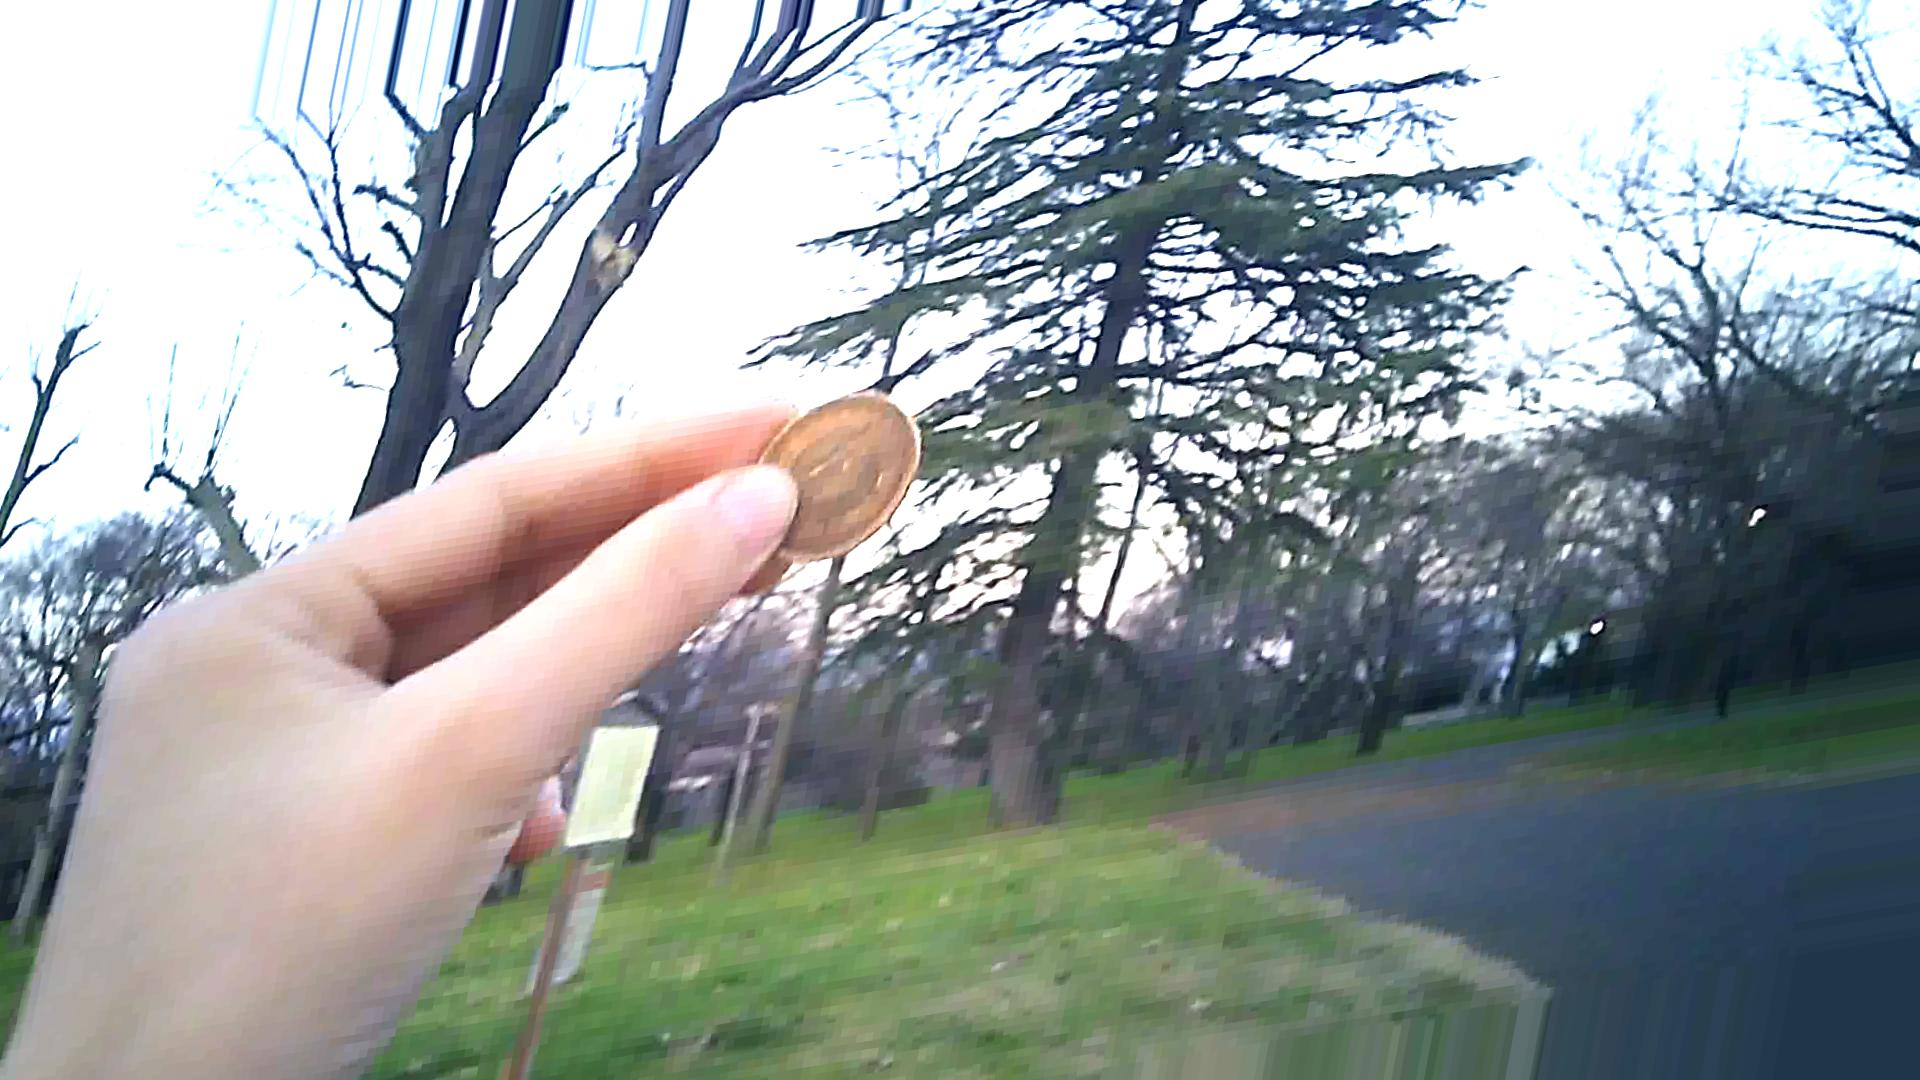10 Yen: (746, 394, 923, 566)
